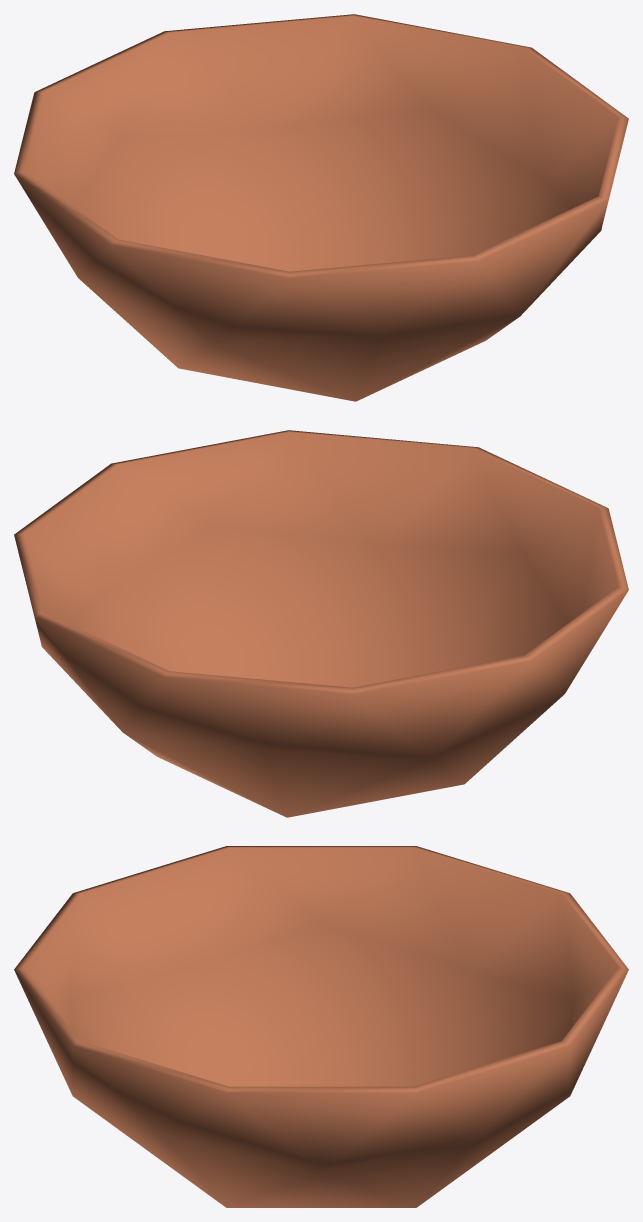
File: dish-type-04.obj
The picture shows the model from 3 angles, top to bottom: view 1: azimuth 30°, elevation 25°; view 2: azimuth 150°, elevation 25°; view 3: azimuth 270°, elevation 25°; orthographic projection. The views are drawn at different scales.
Parts seen in each view (by area): view 1: dish-type-04; view 2: dish-type-04; view 3: dish-type-04.
Boxes of the visible parts, box(x1,y1,x2,y2) form: dish-type-04: box(14, 14, 628, 401); dish-type-04: box(14, 430, 628, 817); dish-type-04: box(14, 846, 628, 1207).
Bounding box in the file's own units: 0.0547 × 0.0216 × 0.0575.
